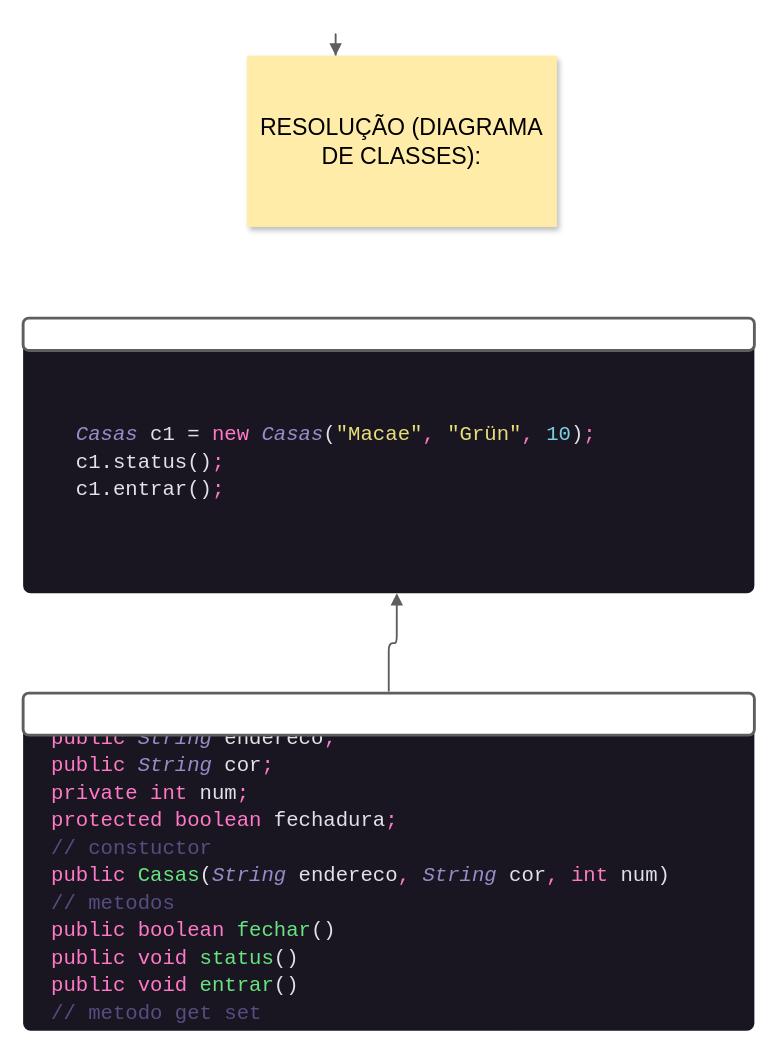
This 778x1054 diagram has some shape labels left out. Here are the shapes that lost their labels. From the top down, the centre of each, then its label:
pixel 388 333: public class casa
pixel 388 713: public class Casas
